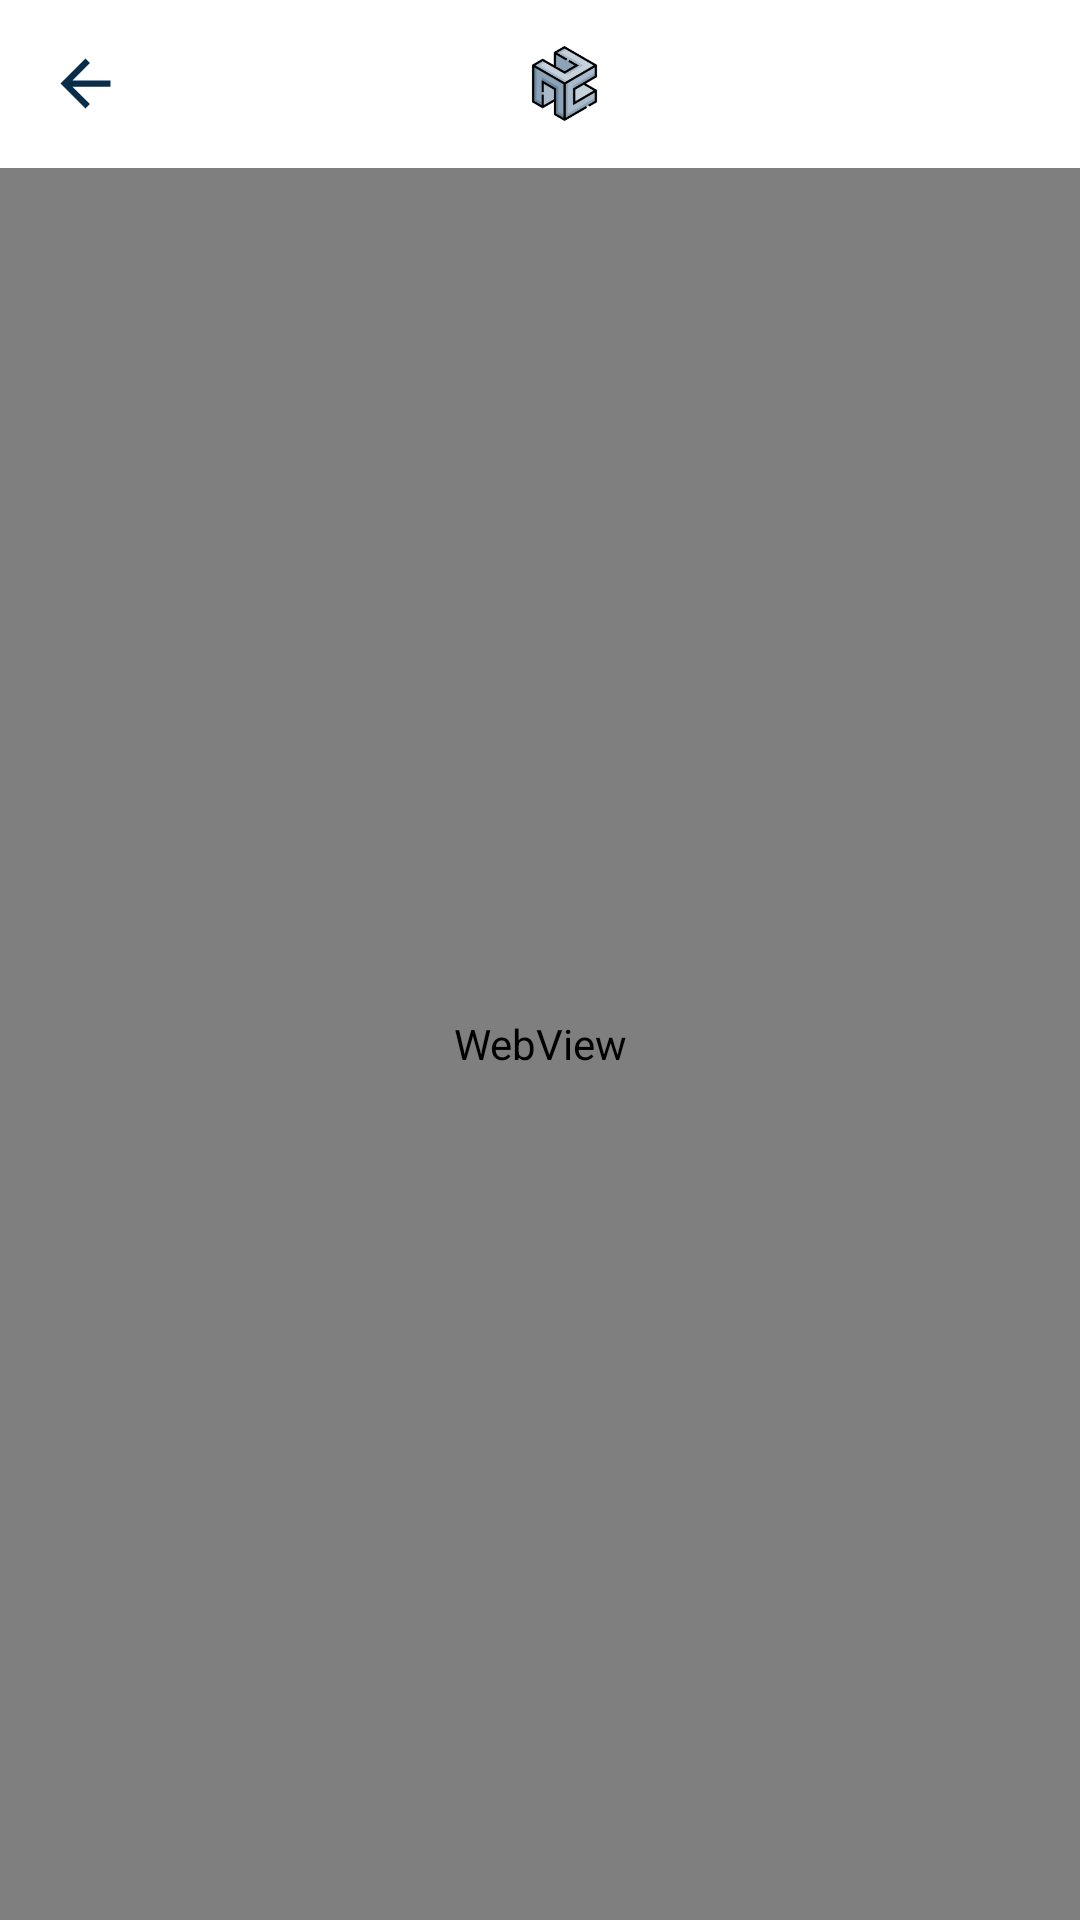

Screen size 1080w x 1920h. Icon name, then its center in pixels as (x,y):
back layout: (85,83)
